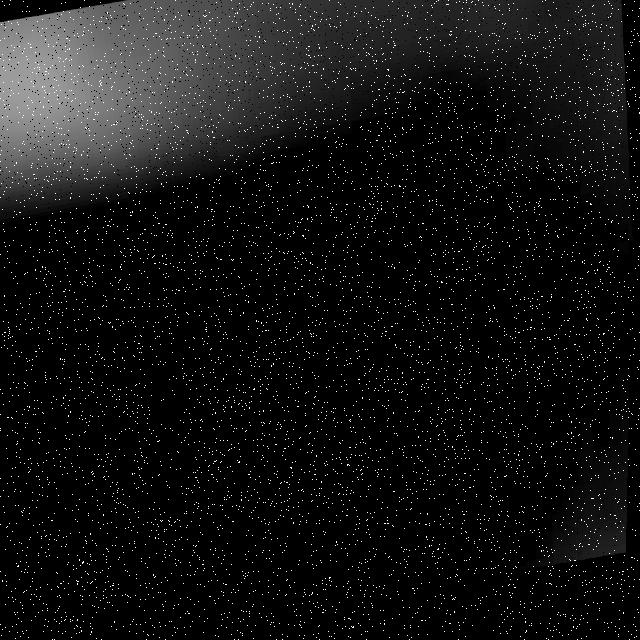person: (1, 1, 362, 204)
